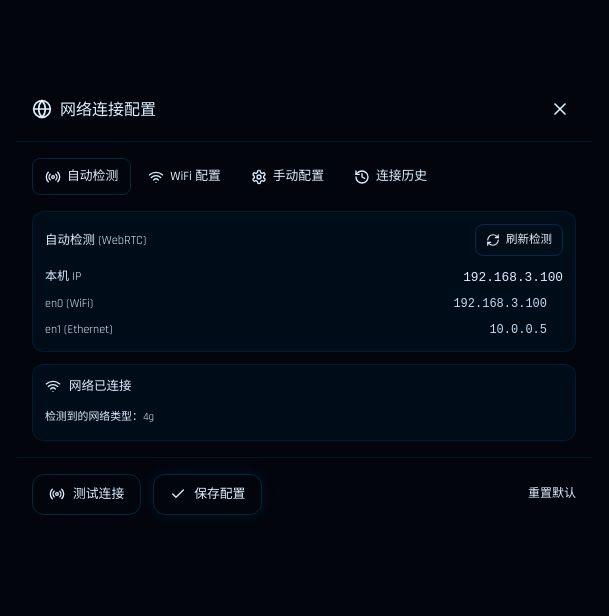
NetworkConfig › 手动配置 Tab › 切换到手动配置 Tab 应显示输入框
Click the button "手动配置" at (287, 177), box left=238, top=158, right=337, bottom=195
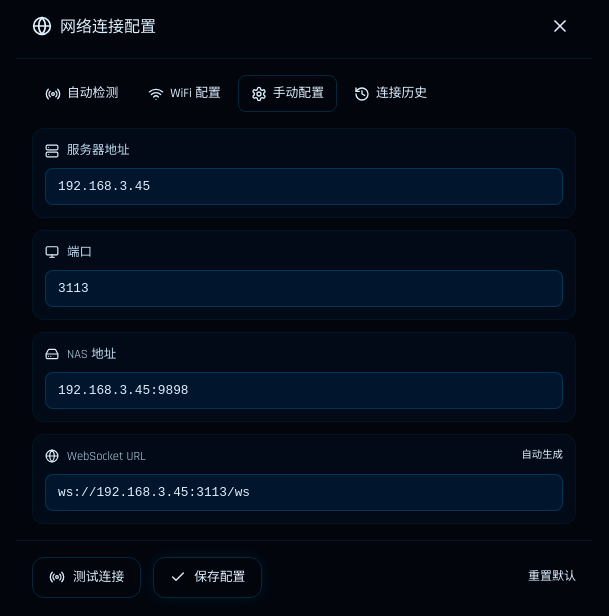
Now the text "服务器地址" is shown, box left=67, top=141, right=129, bottom=160
Now the text "端口" is shown, box left=67, top=243, right=92, bottom=262
Now the text "NAS 地址" is shown, box left=67, top=345, right=116, bottom=364
